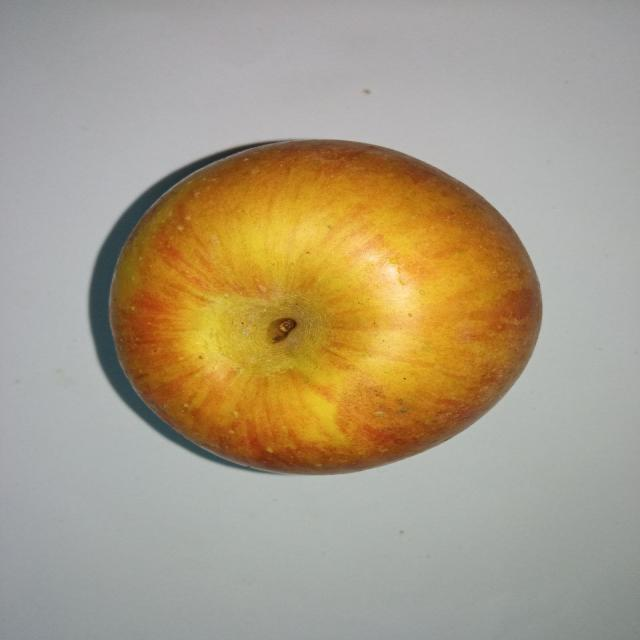fresh_apple: (108, 140, 540, 474)
